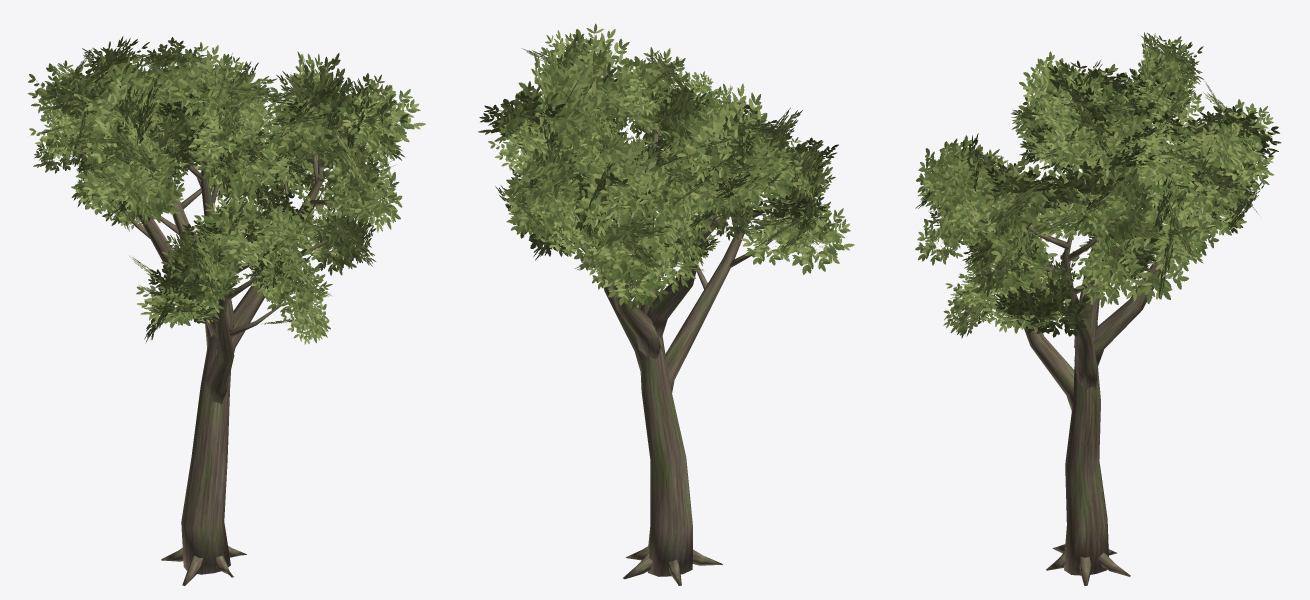
File: tree-oak-1.glb
3 views of the same model, side by side, from view 1: azimuth 30°, elevation 25°; view 2: azimuth 150°, elevation 25°; view 3: azimuth 270°, elevation 25° (orthographic). The views are drawn at different scales.
Parts seen in each view (by area): view 1: Broadleaf sprigs, Trunk and branches; view 2: Broadleaf sprigs, Trunk and branches; view 3: Broadleaf sprigs, Trunk and branches.
Part boxes in pixels (x1=…): Broadleaf sprigs: x1=28, y1=36, x2=425, y2=344; Trunk and branches: x1=78, y1=106, x2=365, y2=585; Broadleaf sprigs: x1=478, y1=23, x2=854, y2=311; Trunk and branches: x1=567, y1=125, x2=794, y2=585; Broadleaf sprigs: x1=915, y1=32, x2=1281, y2=338; Trunk and branches: x1=953, y1=93, x2=1215, y2=585.
Bounding box in the file's own units: 4.57 × 7 × 5.
2 materials, 2 textured.
